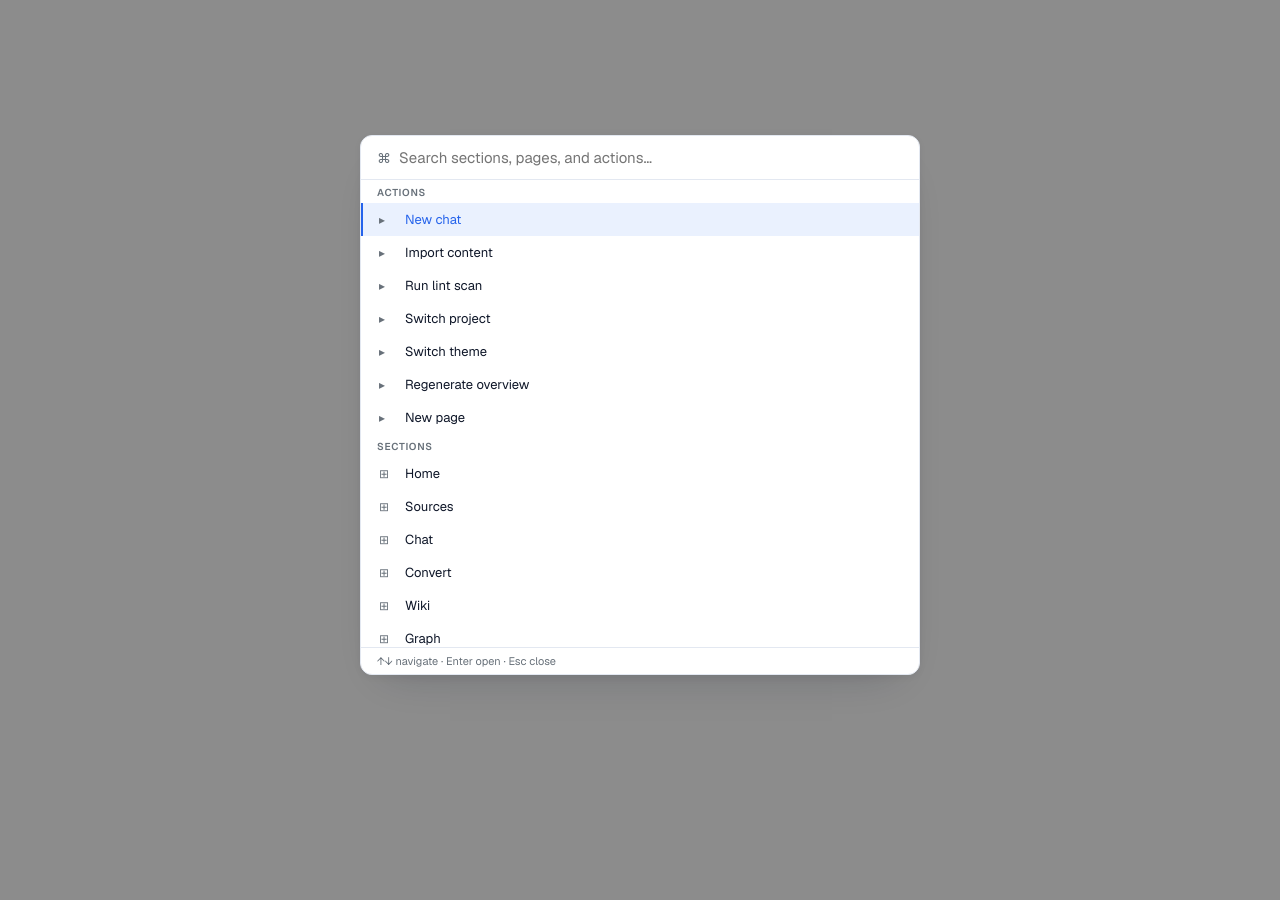
CommandPalette — no results state › shows no-results message when nothing matches
Type "zzz-no-match-xyz" into the dropdown with test id "palette-input" at (651, 158), box [399,148,903,167]
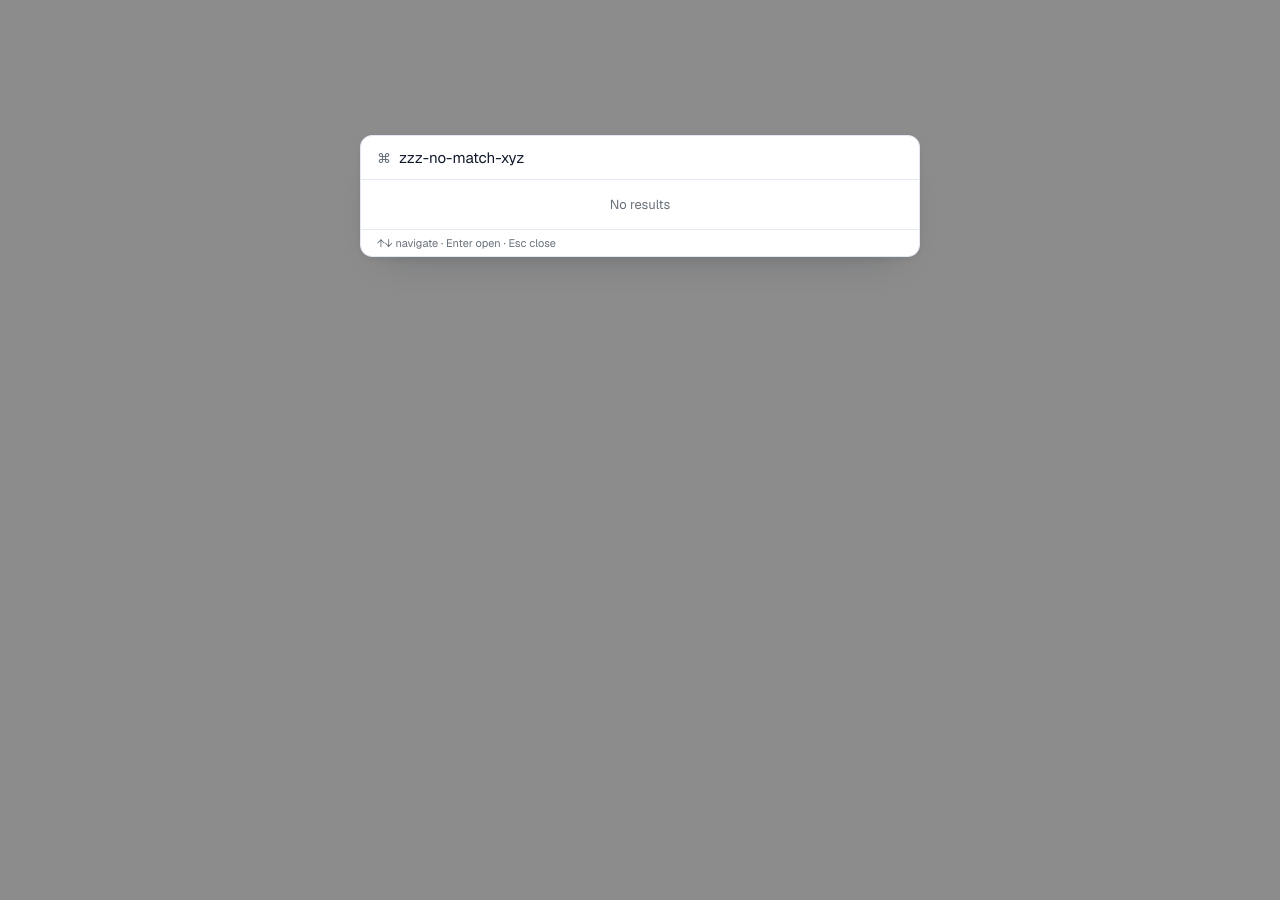
Result: the text "No results" is shown at [610,196,670,213]
